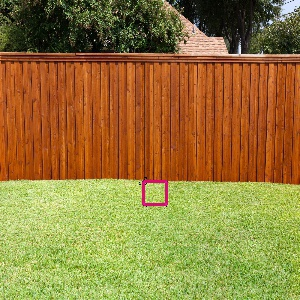square: (140, 178, 169, 208)
